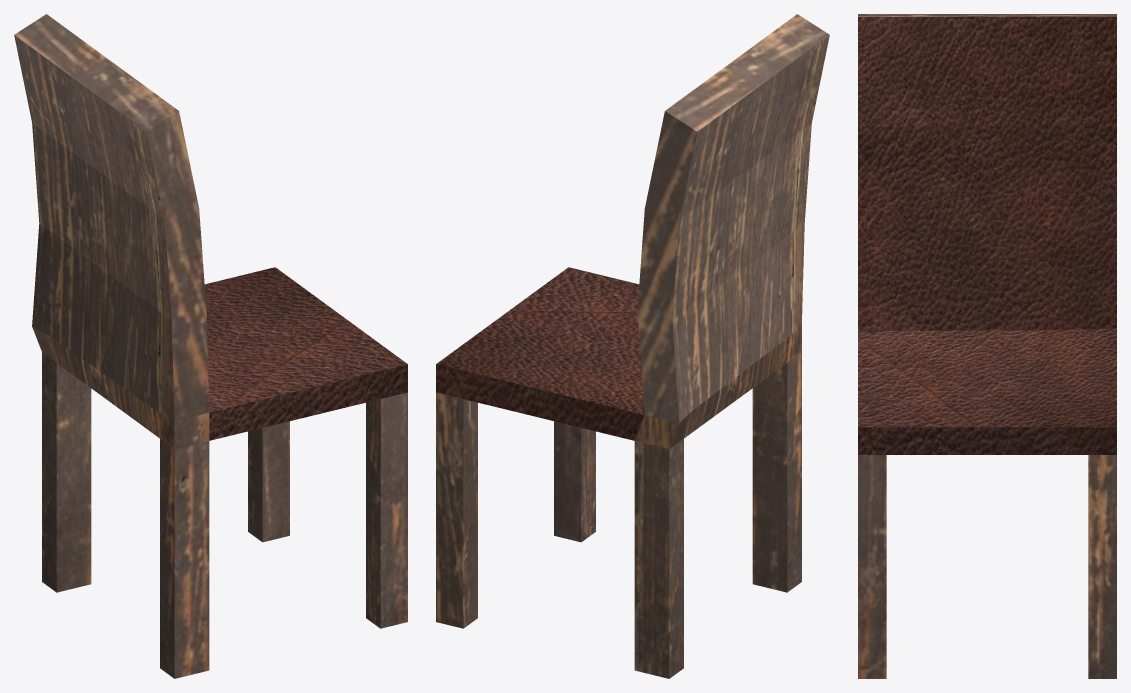
File: CHAIR.fbx
The picture shows the model from 3 angles, left to right: view 1: azimuth 30°, elevation 25°; view 2: azimuth 150°, elevation 25°; view 3: azimuth 270°, elevation 25°; orthographic projection. The views are drawn at different scales.
Visible parts, largest first — view 1: Silla; view 2: Silla; view 3: Silla.
Part boxes in pixels (x1=…): Silla: x1=14, y1=14, x2=407, y2=678; Silla: x1=436, y1=14, x2=829, y2=678; Silla: x1=858, y1=14, x2=1116, y2=678.
Bounding box in the file's own units: 101 × 209 × 88.7.
